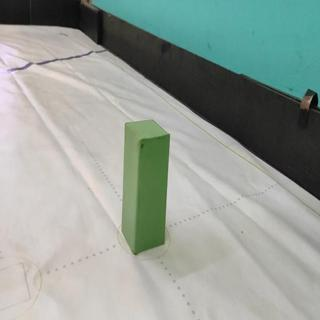greenbox: (122, 117, 172, 253)
